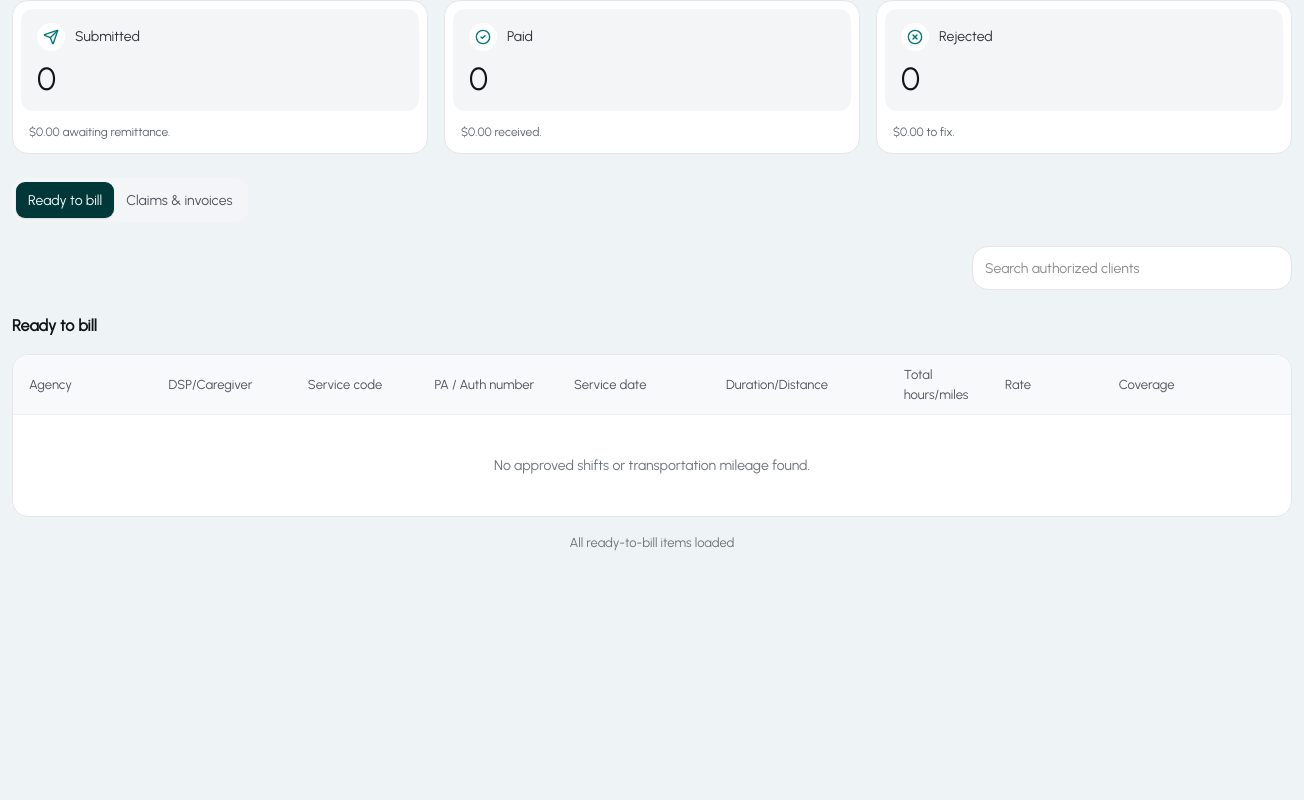
NetworkClaims › keeps the network saved status filter while hiding the agency client search
The image size is (1304, 800).
Later steps or results of the test are not shown.
Click the button "Claims & invoices" at (179, 200), box [114,182,244,218]
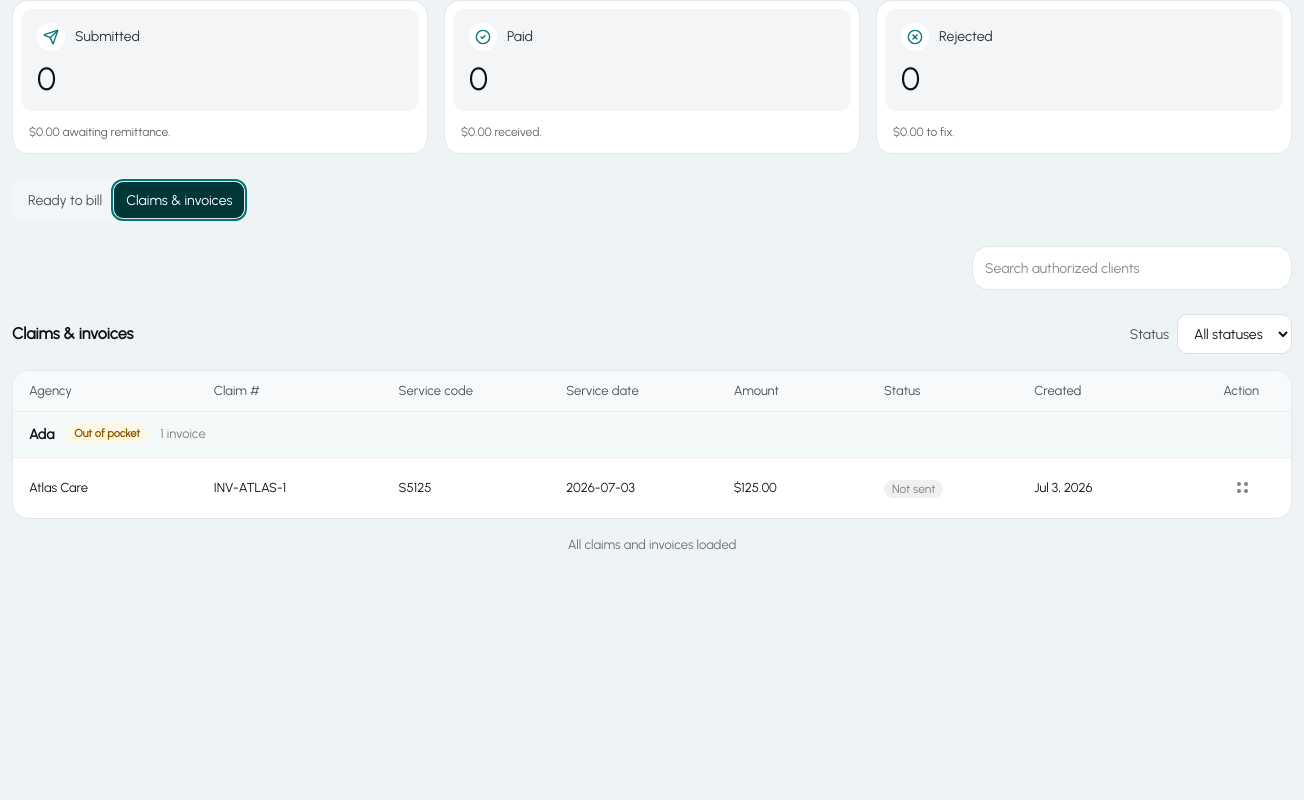
Expected: the field with placeholder "Search authorized clients" is shown, [972,246,1292,290]
Expected: the dropdown labelled "Status" is shown, [1177,314,1292,354]
